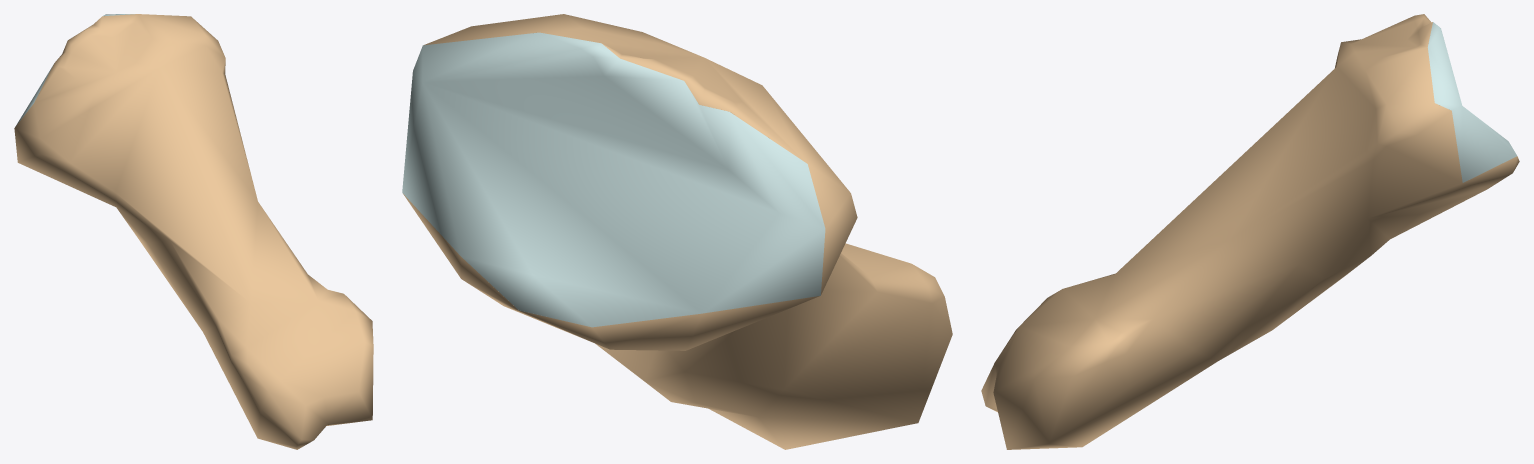
The model's file is Distal_phalanx_of_2d_finger.l_Generated_Mesh_From_X3D.733.glb.
The picture shows the model from 3 angles, left to right: view 1: azimuth 30°, elevation 25°; view 2: azimuth 150°, elevation 25°; view 3: azimuth 270°, elevation 25°; orthographic projection. The views are drawn at different scales.
Visible parts, largest first — view 1: Distal_phalanx_of_2d_finger.l_Generated_Mesh_From_X3D.733; view 2: Distal_phalanx_of_2d_finger.l_Generated_Mesh_From_X3D.733; view 3: Distal_phalanx_of_2d_finger.l_Generated_Mesh_From_X3D.733.
Boxes of the visible parts, bbox=[...] form: Distal_phalanx_of_2d_finger.l_Generated_Mesh_From_X3D.733: bbox=[14, 14, 373, 449]; Distal_phalanx_of_2d_finger.l_Generated_Mesh_From_X3D.733: bbox=[402, 14, 952, 449]; Distal_phalanx_of_2d_finger.l_Generated_Mesh_From_X3D.733: bbox=[981, 14, 1519, 449].
Bounding box in the file's own units: 0.0104 × 0.0143 × 0.0176.
